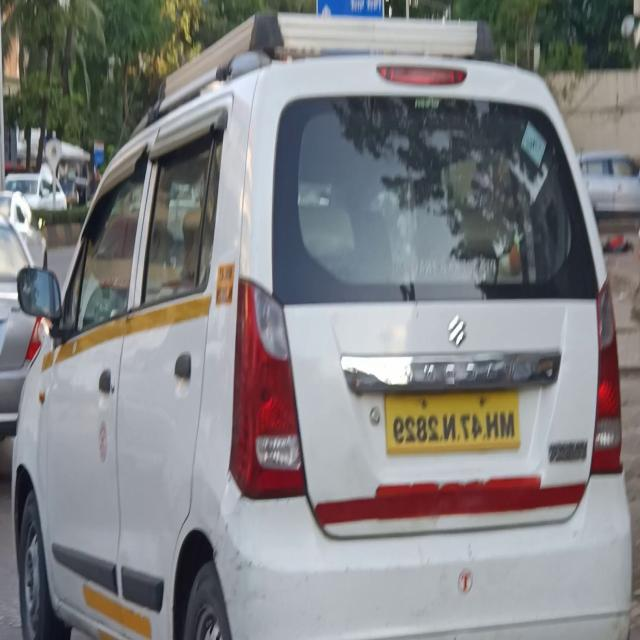license_plate: (382, 384, 525, 459)
